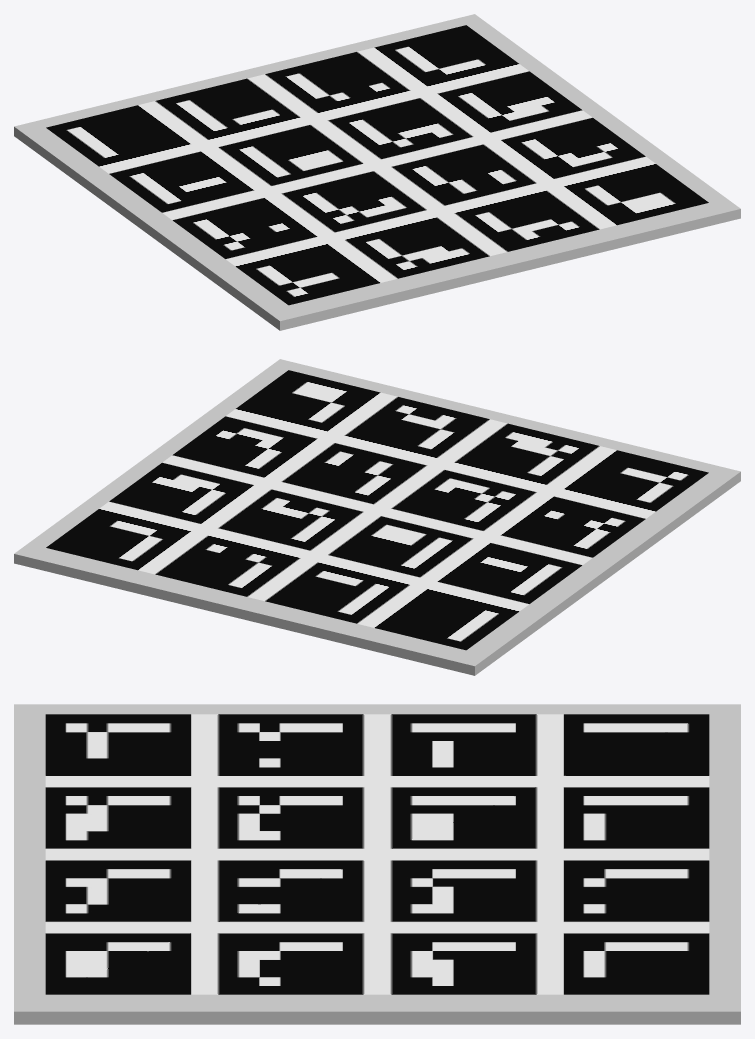
Rendered from leeward_tip_marker_1.dae.
3 views of the same model, one above another, from view 1: azimuth 30°, elevation 25°; view 2: azimuth 150°, elevation 25°; view 3: azimuth 270°, elevation 25° (orthographic). The views are drawn at different scales.
Visible parts, largest first — view 1: leeward_tip_1; view 2: leeward_tip_1; view 3: leeward_tip_1.
Boxes of the visible parts, x1,y1,x2,y2 form: leeward_tip_1: [14, 14, 740, 330]; leeward_tip_1: [14, 359, 740, 675]; leeward_tip_1: [14, 704, 740, 1024].
Bounding box in the file's own units: 0.2 × 0.2 × 0.005.
Materials: 2 (1 with a texture image).
